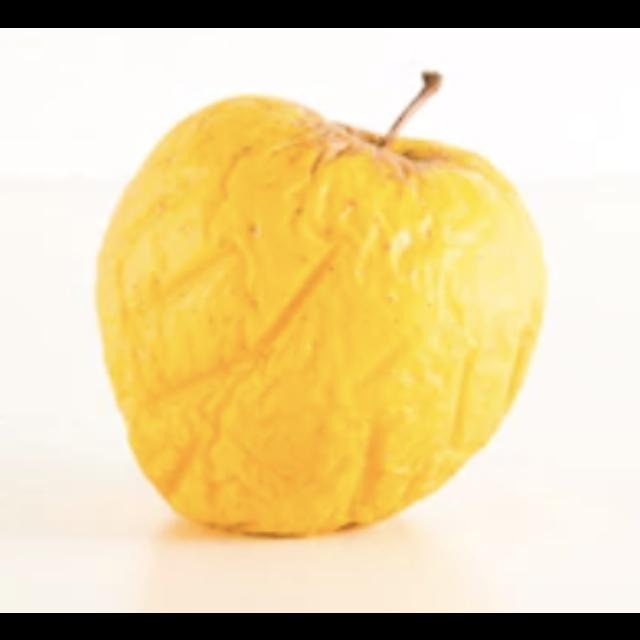Apel Tidak Segar: (98, 92, 546, 536)
